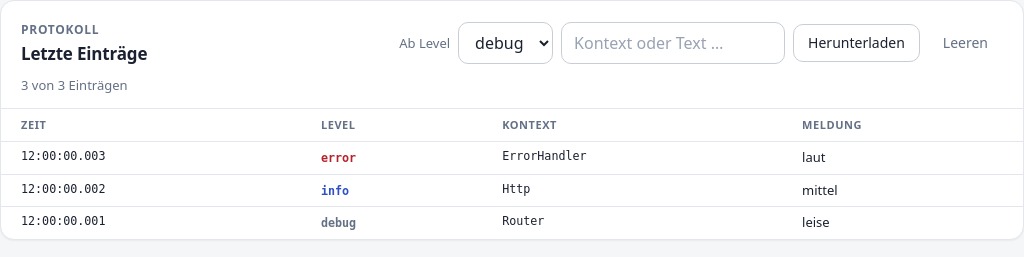
LogViewer › filters by minimum level
Select "warn" in the dropdown labelled "Ab Level" at x=506, y=43, box [458, 22, 553, 64]
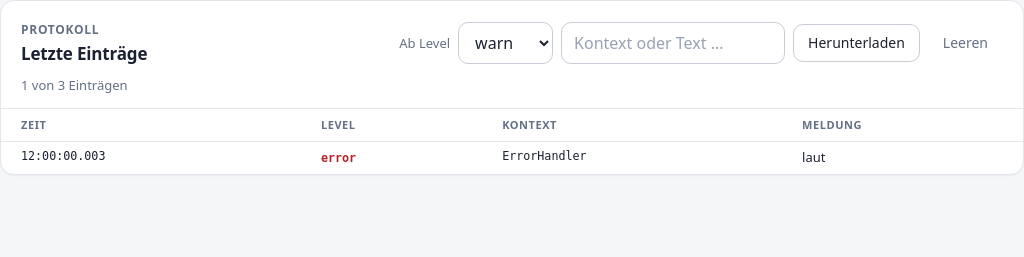
expect the text "1 von 3 Einträgen" is shown: met, box [21, 76, 128, 94]
